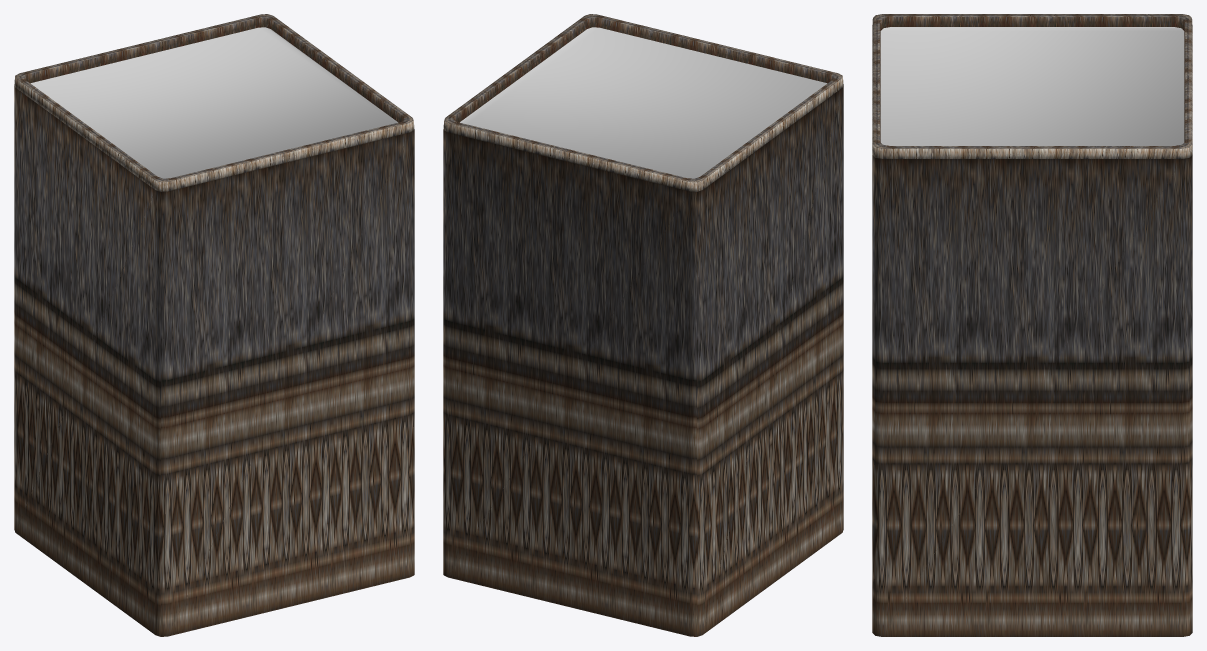
The model's file is prf_env_bld_BaseBuild_Tiny_x.fbx.
The picture shows the model from 3 angles, left to right: view 1: azimuth 30°, elevation 25°; view 2: azimuth 150°, elevation 25°; view 3: azimuth 270°, elevation 25°; orthographic projection. The views are drawn at different scales.
Visible parts, largest first — view 1: prf_env_bld_BaseBuild_Tiny_x; view 2: prf_env_bld_BaseBuild_Tiny_x; view 3: prf_env_bld_BaseBuild_Tiny_x.
Part boxes in pixels (bbox=[...]): prf_env_bld_BaseBuild_Tiny_x: bbox=[14, 14, 414, 636]; prf_env_bld_BaseBuild_Tiny_x: bbox=[443, 14, 843, 636]; prf_env_bld_BaseBuild_Tiny_x: bbox=[872, 14, 1192, 636].
Size of the model in its own units: 1.25 by 2.1 by 1.25.
